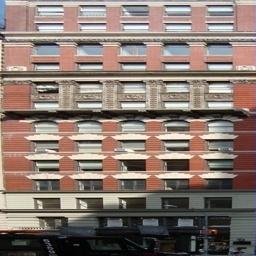building: (0, 0, 256, 227)
